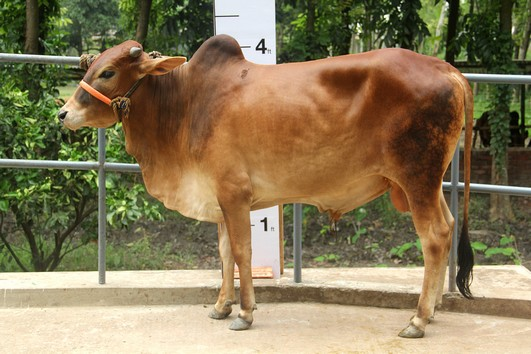cow: (52, 32, 477, 338)
